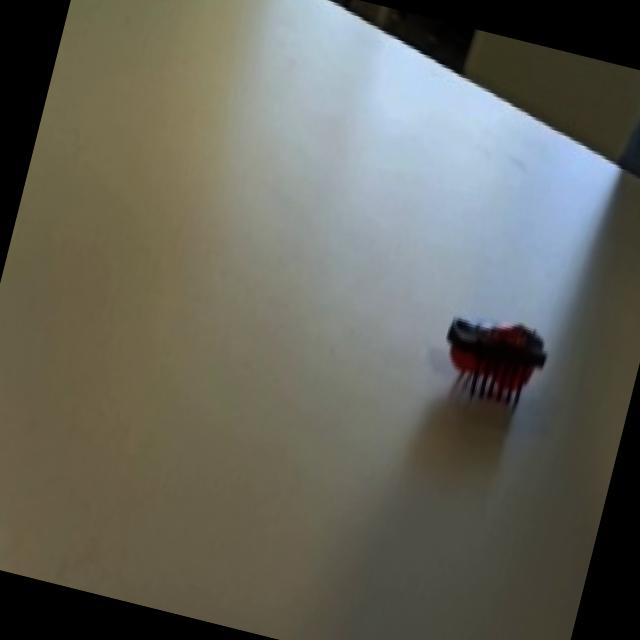2_NanoBug_Negro: (410, 286, 574, 438)
